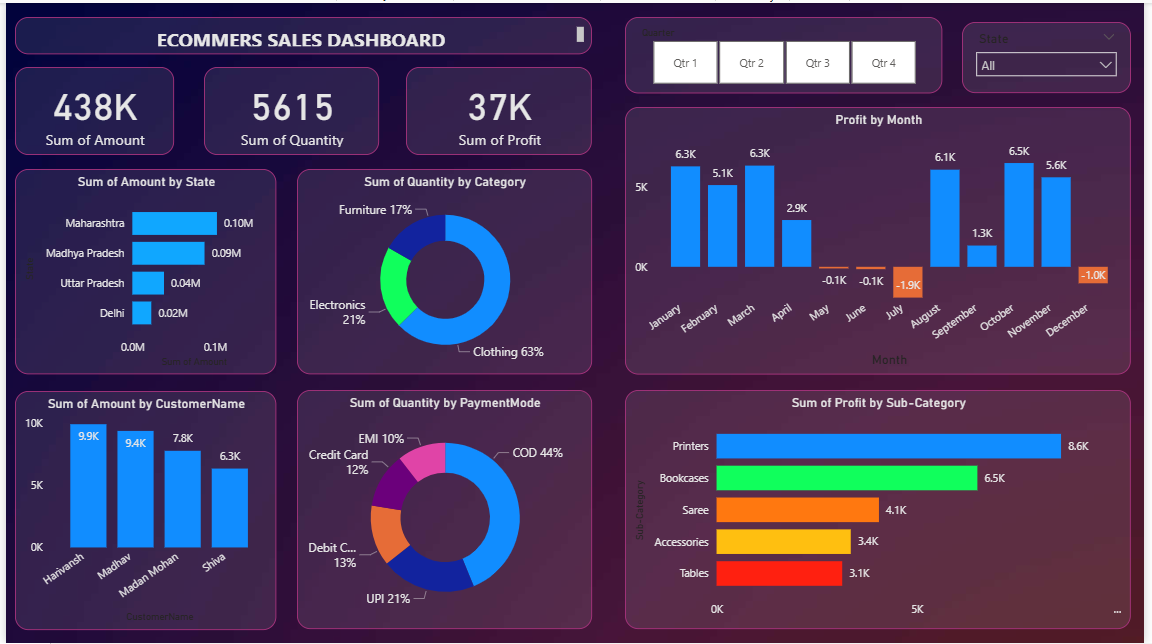

Layout of this report page (visuals, bound fields, positions):
{"tool":"powerbi","page":{"name":"Page 1","canvas":[1280,720],"ordinal":0},"visuals":[{"type":"columnChart","title":" Profit by Month","fields":{"Category":["Orders (1).Order Date.Variation.Date Hierarchy.Month"],"Y":["Sum(Details (2).Profit)"]},"box":[696.5,116.9,569.3,300.7],"z":0},{"type":"barChart","fields":{"Category":["Details (2).Sub-Category"],"Y":["Sum(Details (2).Profit)"]},"box":[696.5,435.7,569.3,268.6],"z":1000},{"type":"donutChart","fields":{"Category":["Details (2).Category"],"Y":["Sum(Details (2).Quantity)"]},"box":[327.7,186.3,331.6,231.3],"z":2000},{"type":"donutChart","fields":{"Y":["Sum(Details (2).Quantity)"],"Category":["Details (2).PaymentMode"]},"box":[327.7,435.7,331.6,268.6],"z":3000},{"type":"card","fields":{"Values":["Sum(Details (2).Amount)"]},"box":[10.3,72,178.6,99],"z":4000},{"type":"card","fields":{"Values":["Sum(Details (2).Quantity)"]},"box":[222.3,72,196.6,99],"z":5000},{"type":"card","fields":{"Values":["Sum(Details (2).Profit)"]},"box":[449.8,72,209.5,99],"z":6000},{"type":"barChart","fields":{"Category":["Orders (1).State"],"Y":["Sum(Details (2).Amount)"]},"box":[10.3,186.3,294.3,231.3],"z":7000},{"type":"columnChart","fields":{"Category":["Orders (1).CustomerName"],"Y":["Sum(Details (2).Amount)"]},"box":[10,436,294,269],"z":8000},{"type":"textbox","box":[10.3,15.4,649,42.4],"z":9000},{"type":"slicer","fields":{"Values":["Orders (1).Order Date.Variation.Date Hierarchy.Quarter"]},"box":[696.5,15.4,357.3,86.1],"z":10000},{"type":"slicer","fields":{"Values":["Orders (1).State"]},"box":[1075.7,21.8,190.2,79.7],"z":11000}]}

Visuals, with their boxes in screenshot pixels (x1, y1, x2, y2), scaled from the page's 1280x720 canvas onto the 1152x644 screenshot:
" Profit by Month" columnChart: left=627, top=105, right=1139, bottom=374
barChart - Details (2).Sub-Category x Sum(Details (2).Profit): left=627, top=390, right=1139, bottom=630
donutChart - Details (2).Category x Sum(Details (2).Quantity): left=295, top=167, right=593, bottom=374
donutChart - Sum(Details (2).Quantity) x Details (2).PaymentMode: left=295, top=390, right=593, bottom=630
card - Sum(Details (2).Amount): left=9, top=64, right=170, bottom=153
card - Sum(Details (2).Quantity): left=200, top=64, right=377, bottom=153
card - Sum(Details (2).Profit): left=405, top=64, right=593, bottom=153
barChart - Orders (1).State x Sum(Details (2).Amount): left=9, top=167, right=274, bottom=374
columnChart - Orders (1).CustomerName x Sum(Details (2).Amount): left=9, top=390, right=274, bottom=631
textbox: left=9, top=14, right=593, bottom=52
slicer - Orders (1).Order Date.Variation.Date Hierarchy.Quarter: left=627, top=14, right=948, bottom=91
slicer - Orders (1).State: left=968, top=19, right=1139, bottom=91
